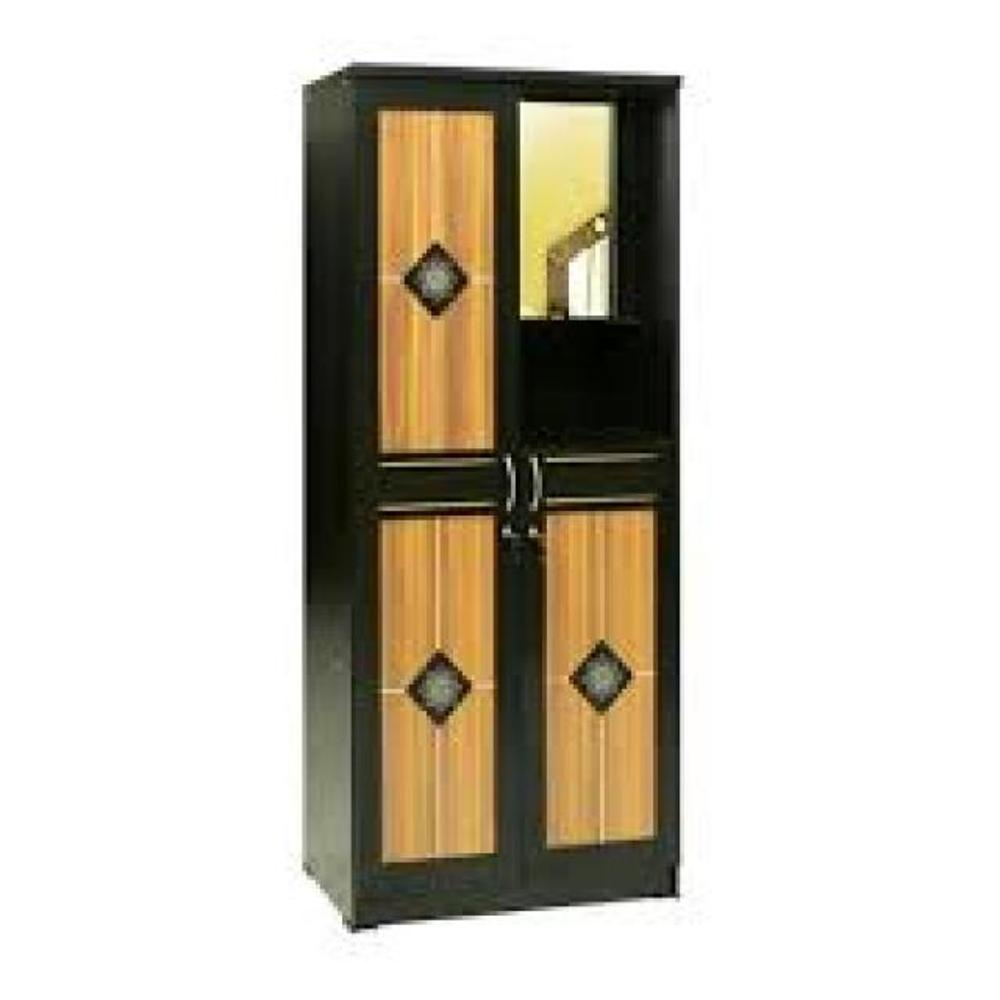cabinet: (300, 59, 683, 938)
